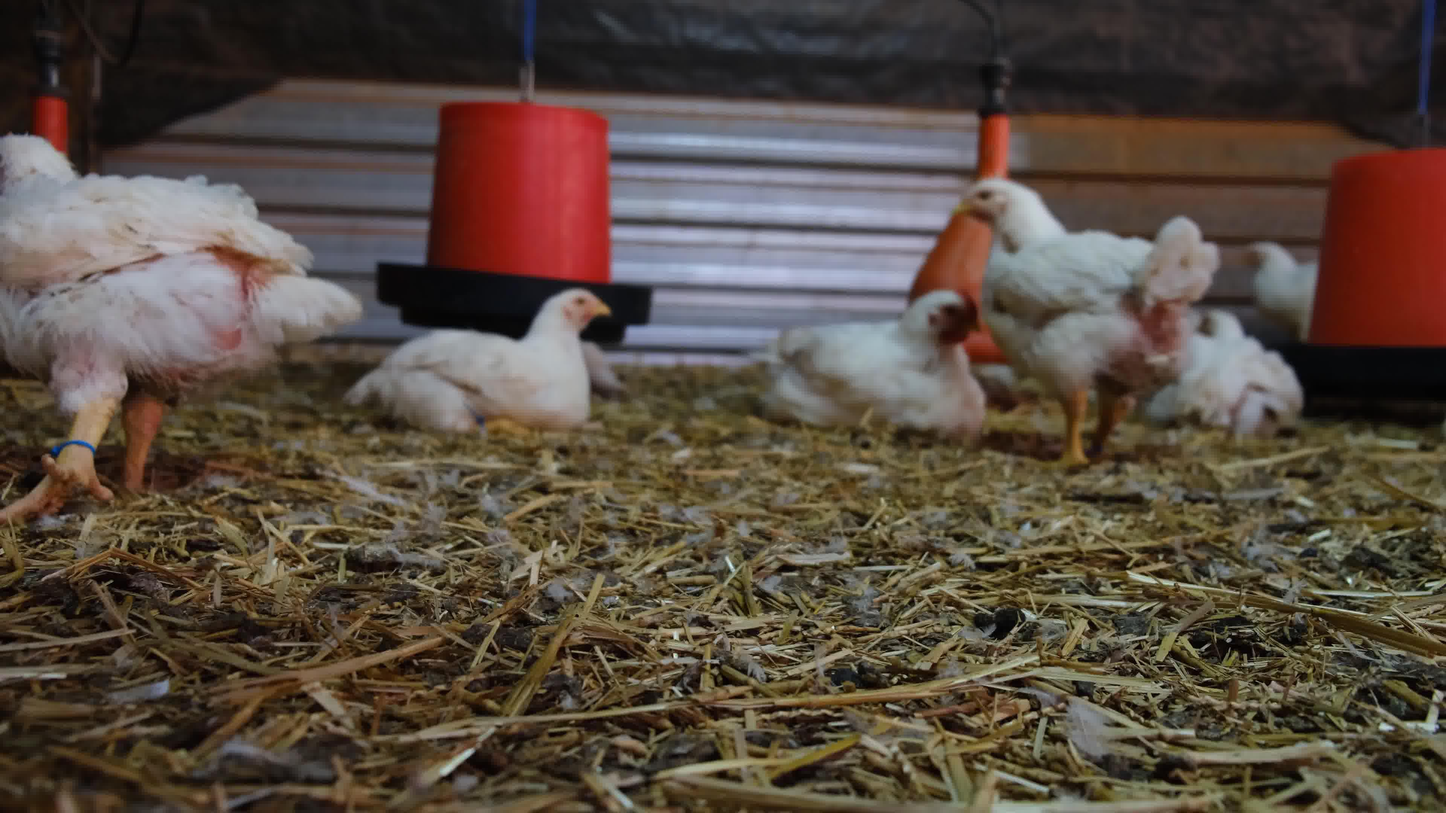AbNormal: (344, 286, 614, 431), (744, 286, 985, 435), (1137, 306, 1313, 433)
Normal: (0, 126, 363, 517), (957, 174, 1227, 468), (1241, 239, 1335, 331)
